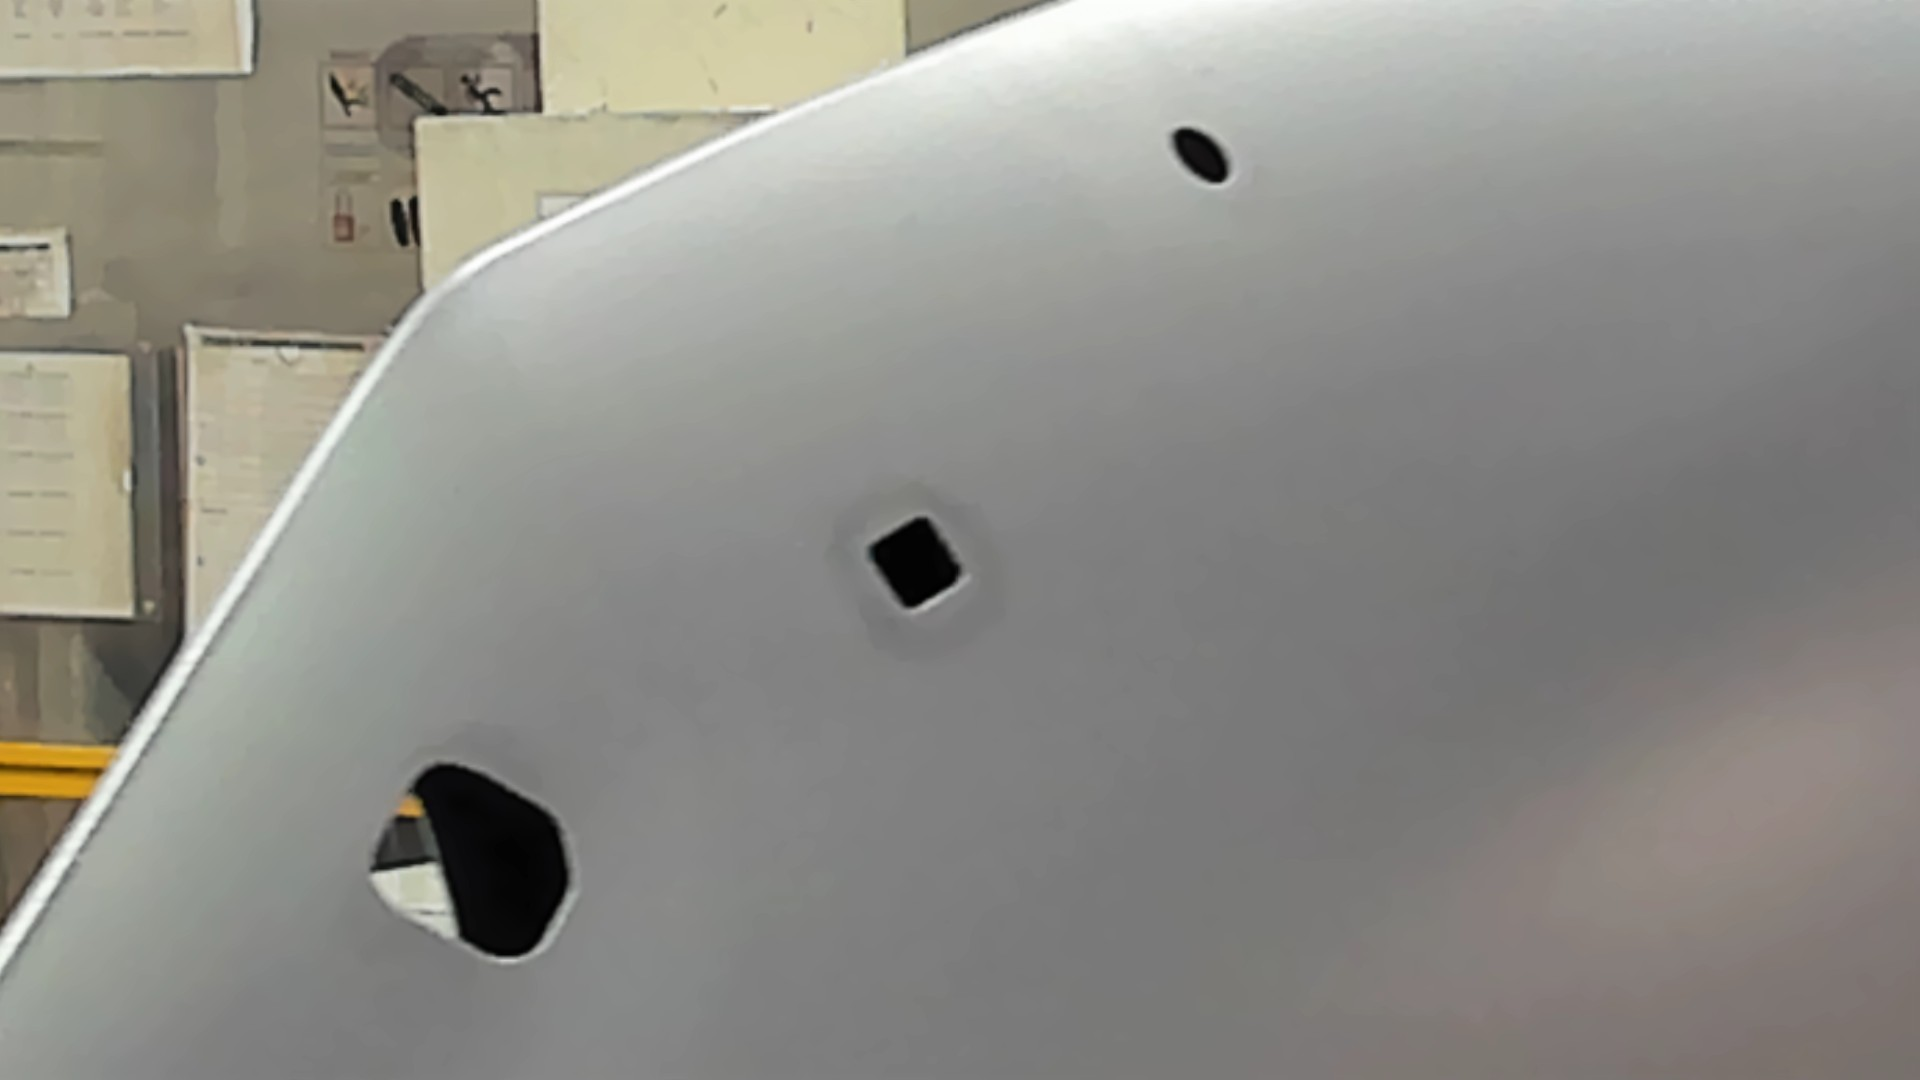chico: (1168, 123, 1234, 186)
grande: (367, 760, 579, 968)
mediano: (864, 514, 975, 615)
